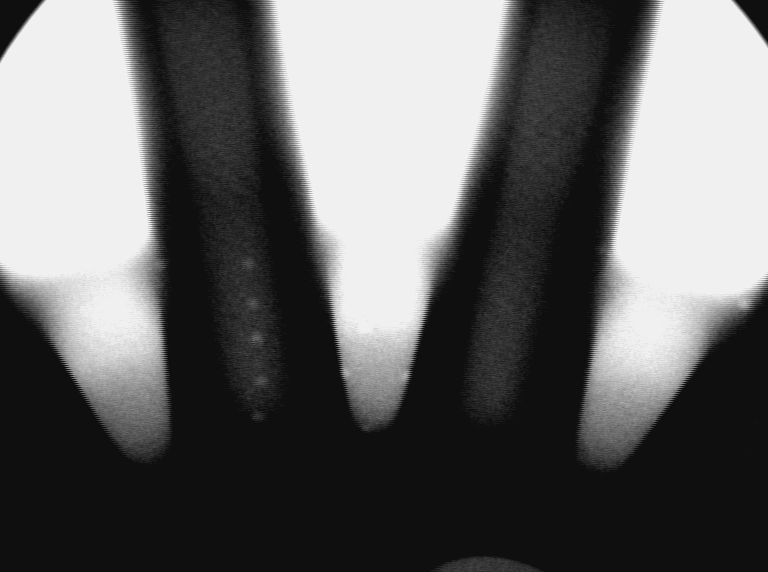defect: (151, 257, 168, 277)
